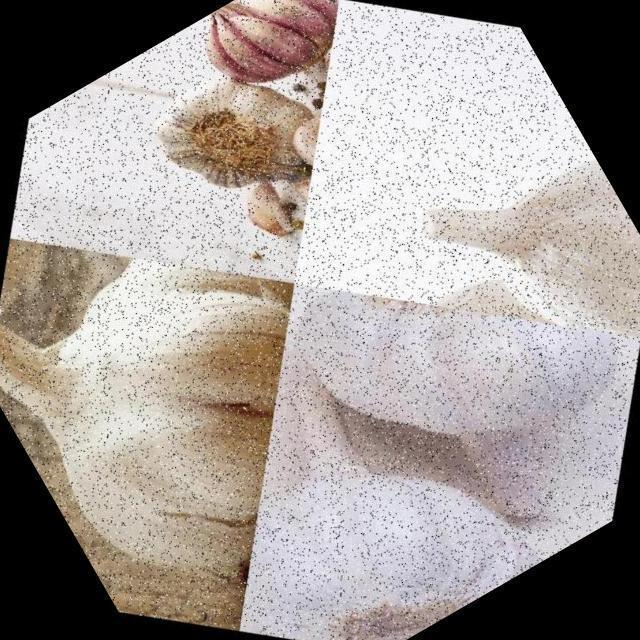garlic: (191, 155, 640, 640), (0, 127, 413, 640), (139, 264, 619, 640), (331, 57, 640, 431), (300, 130, 632, 450), (102, 3, 366, 264), (127, 0, 378, 176), (228, 92, 372, 240), (214, 150, 326, 262)
